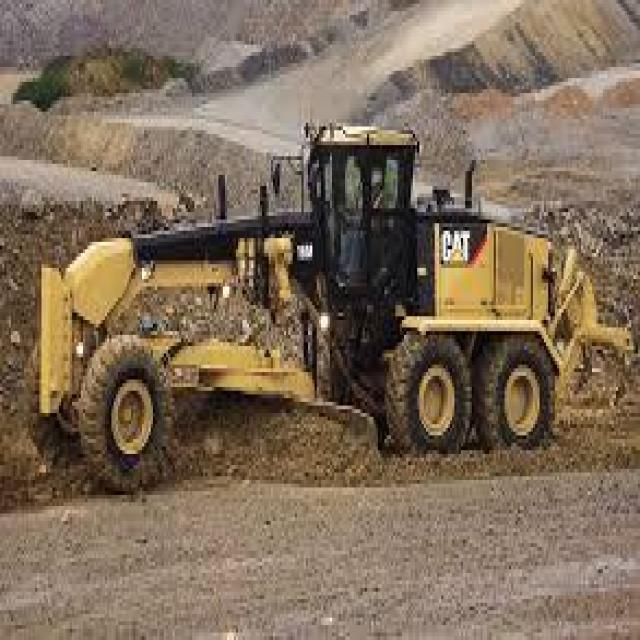Grader: (28, 74, 629, 510)
